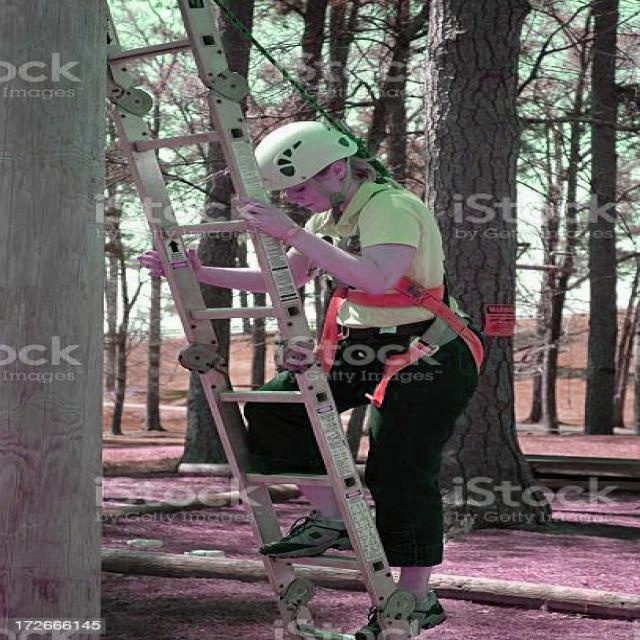safety belt: (311, 226, 464, 372)
